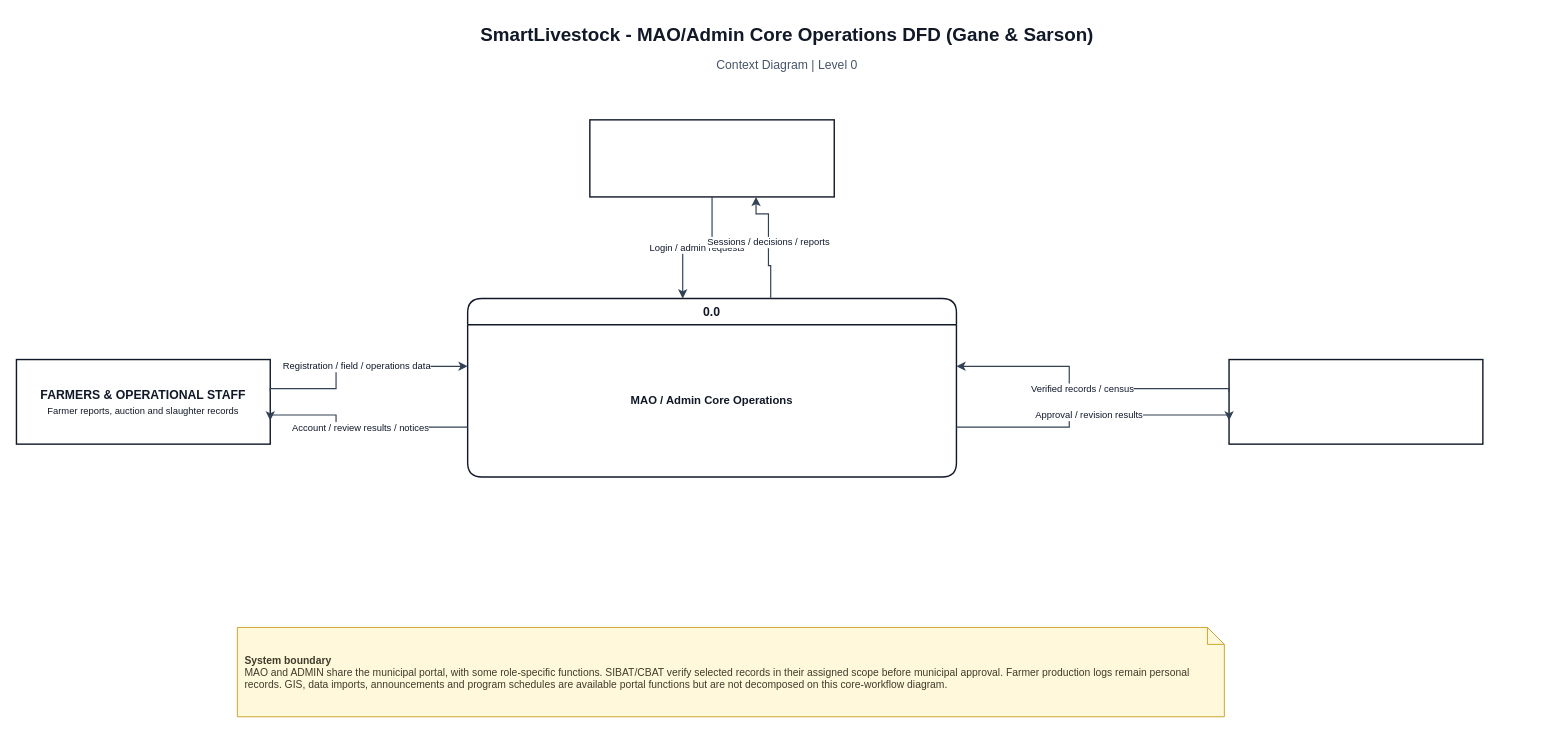
Image size: 1556x733. Some labels were removed from this diagram. Here are the shapes that lost their labels. From the top down, the centre of each, then its label:
At (712,158): "MAO / ADMIN Shared municipal portal roles".
At (1355,401): "FIELD REVIEWERS SIBAT / CBAT".
